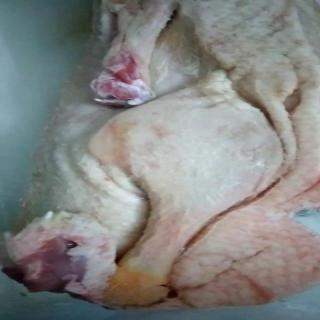Ayam: (1, 1, 320, 311)
